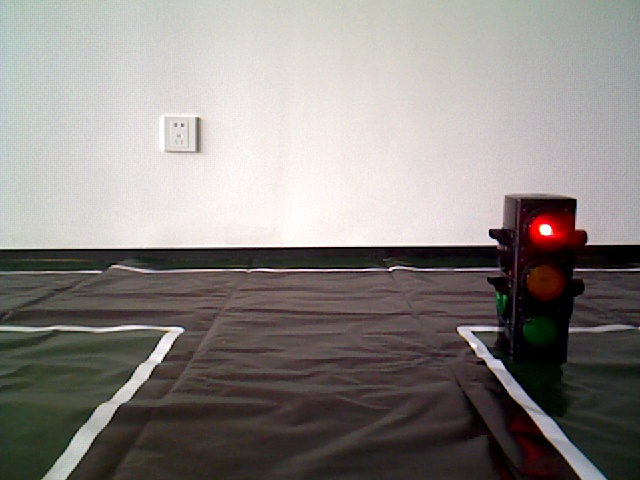red: (492, 198, 572, 342)
